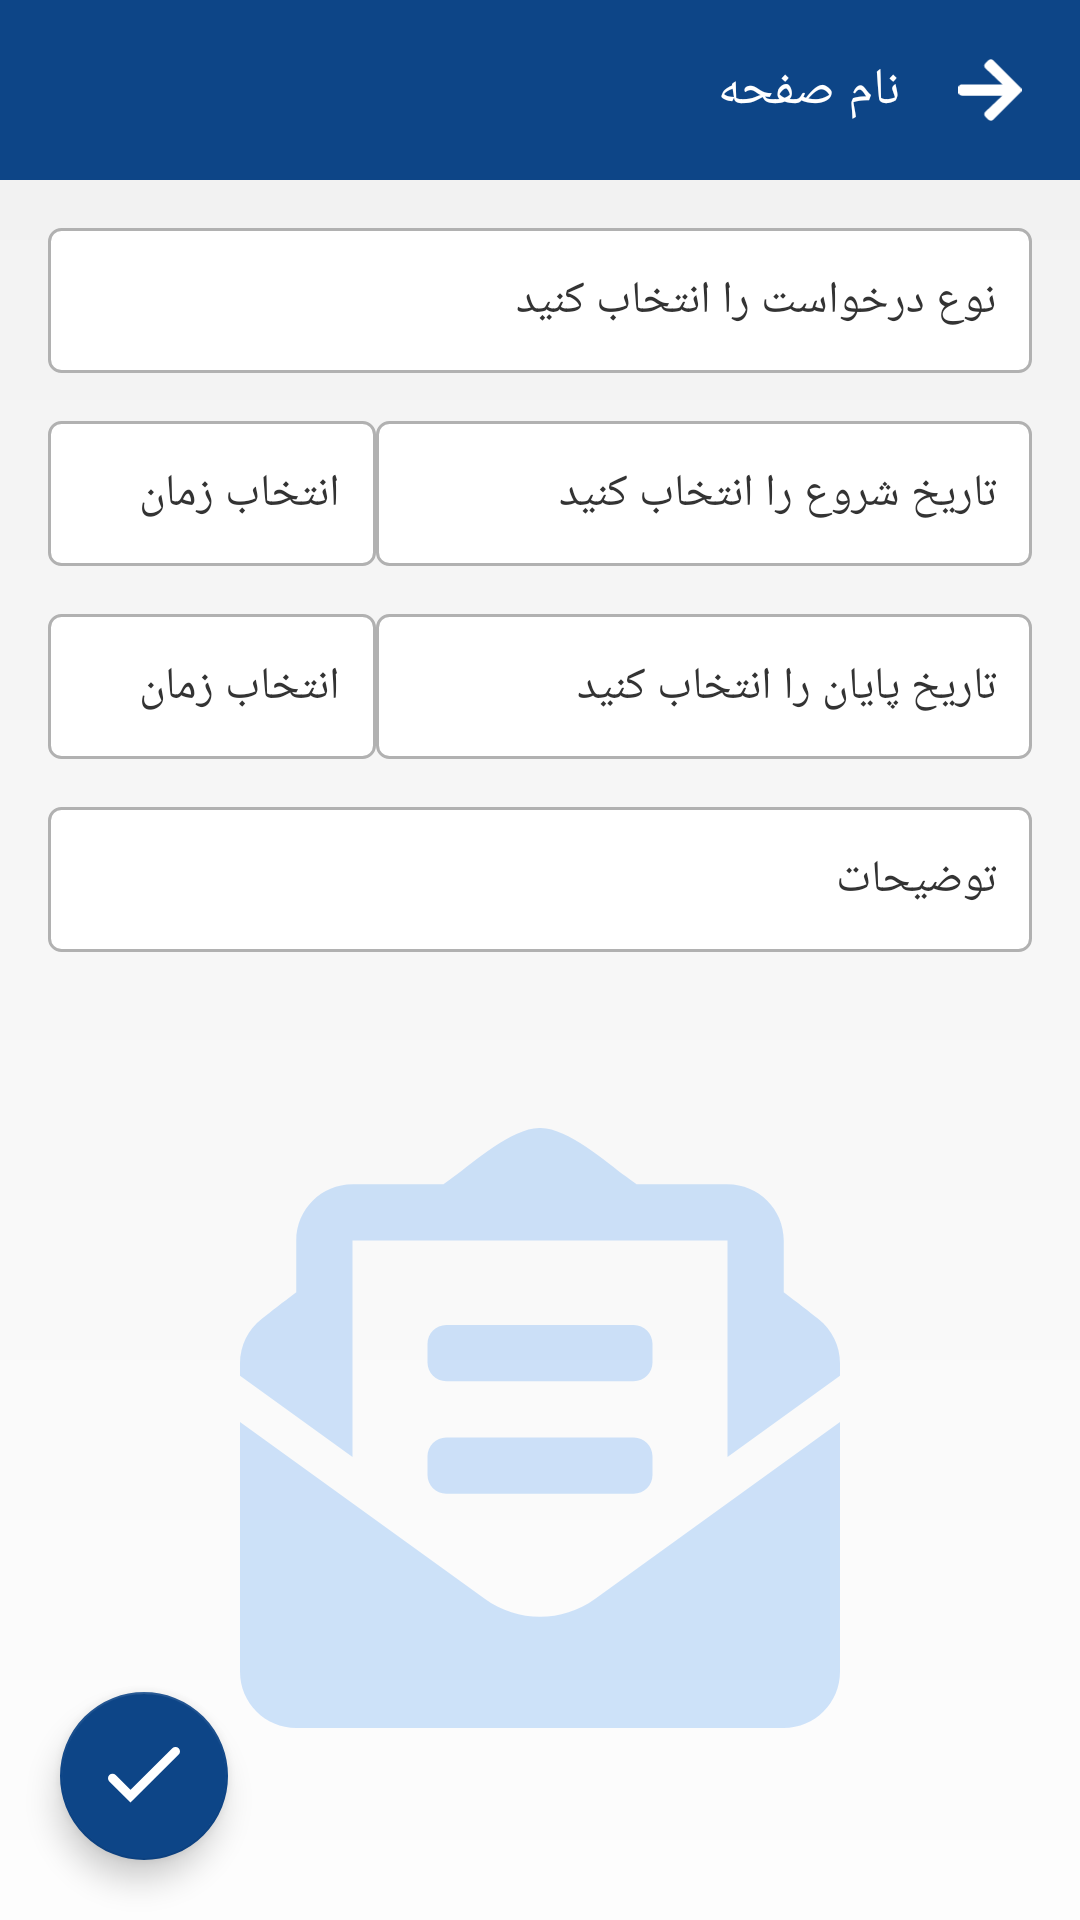

Icons on this 1080×1920 Android screen, each with its box as (x1, y1, x2, y2):
arrow right: (958, 59, 1022, 121)
checkmark: (60, 1692, 228, 1860)
